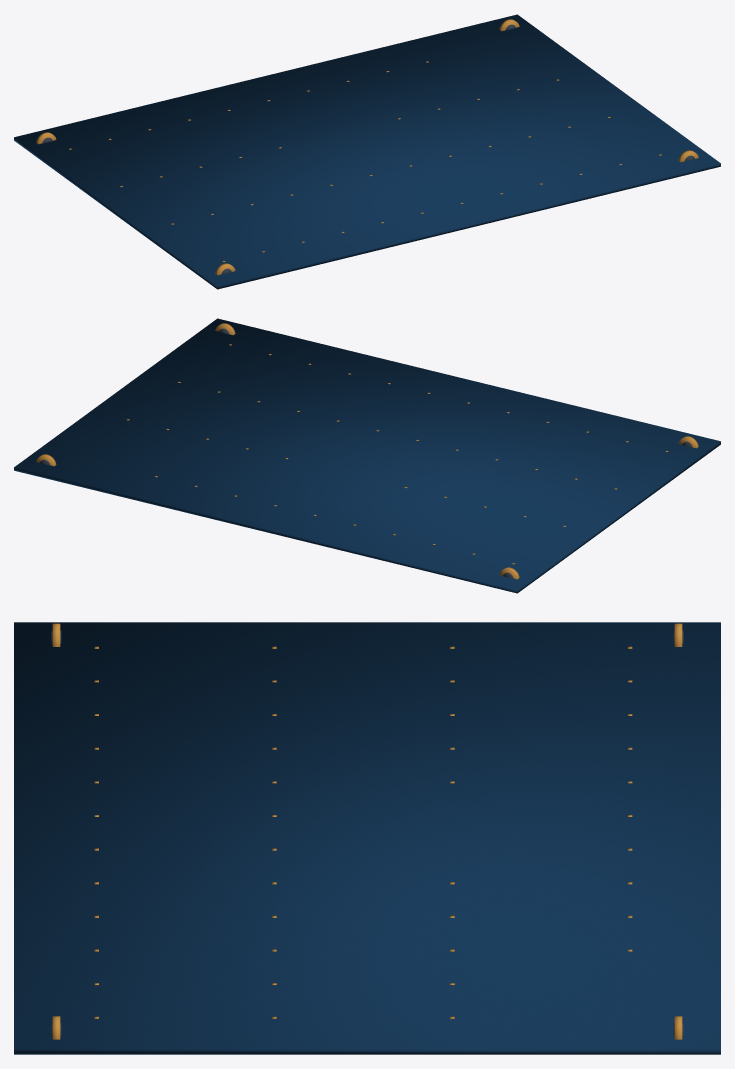
Rendered from 083_L102_PCB_Base.obj.
3 renders of one model, top to bottom at view 1: azimuth 30°, elevation 25°; view 2: azimuth 150°, elevation 25°; view 3: azimuth 270°, elevation 25°, orthographic. The views are drawn at different scales.
Visible parts, largest first — view 1: 0052_PCB_Navy; view 2: 0052_PCB_Navy; view 3: 0052_PCB_Navy.
Boxes of the visible parts, bbox=[...] form: 0052_PCB_Navy: bbox=[14, 14, 720, 289]; 0052_PCB_Navy: bbox=[14, 318, 720, 593]; 0052_PCB_Navy: bbox=[14, 622, 720, 1054].
Bounding box in the file's own units: 0.25 × 0.0092 × 0.175.
Materials: 3 (3 with a texture image).
